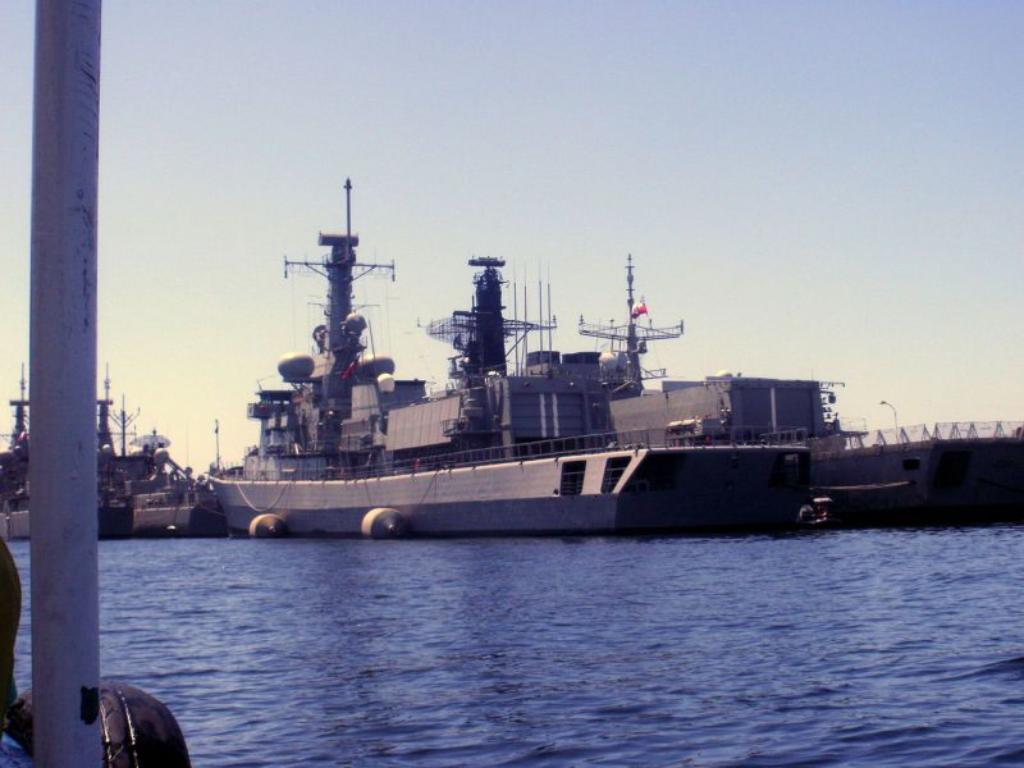Warship: (186, 170, 828, 546)
